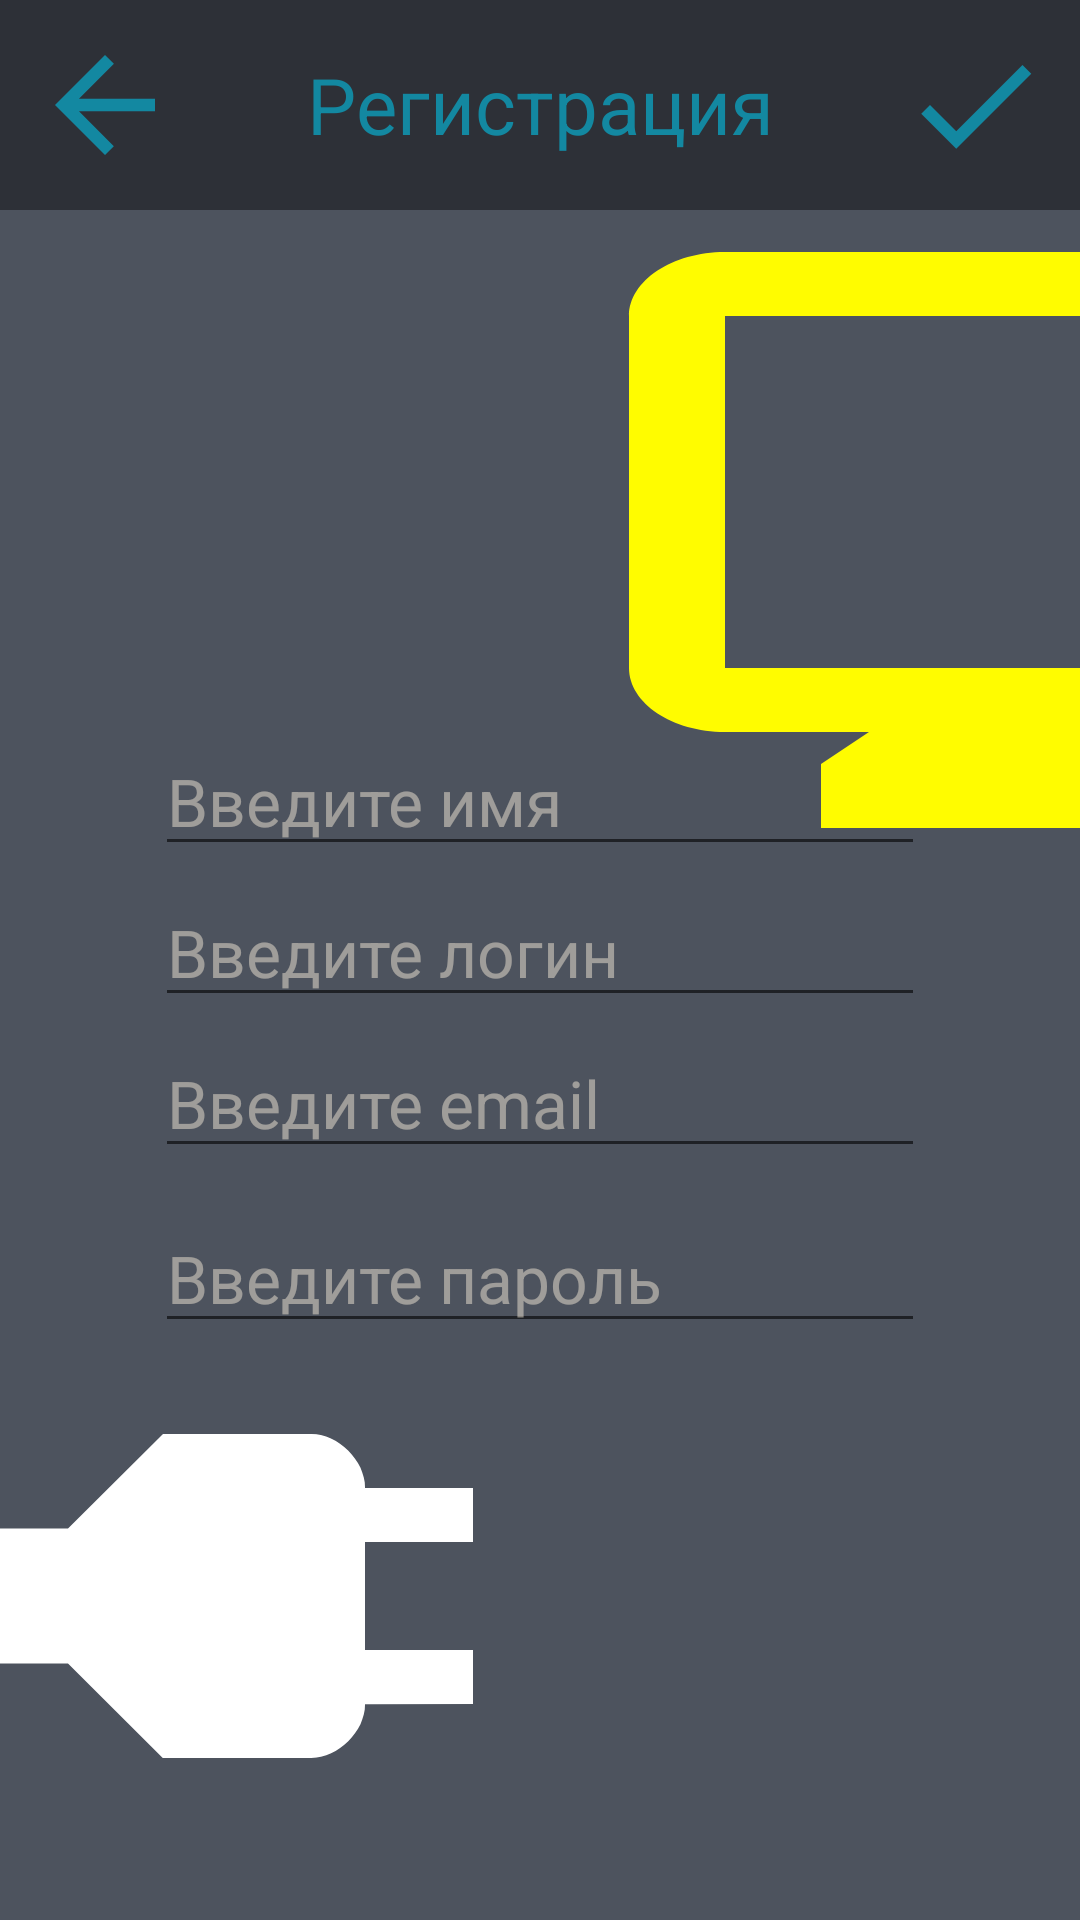

Named icons in this screenshot (1080w x 1920h) and their bounding boxes, box=[x1, y1, x2, y2]:
back: box=[55, 55, 155, 155]
done: box=[921, 65, 1031, 149]
